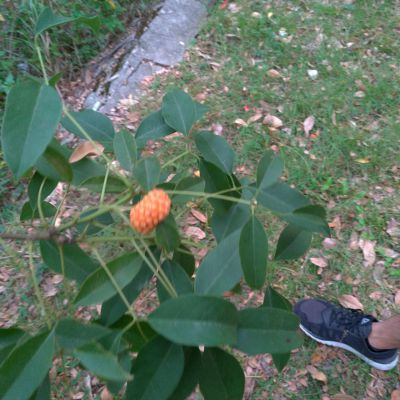eggs: (127, 187, 175, 233)
